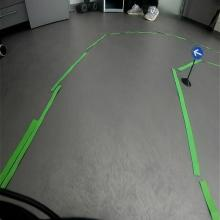left: (191, 44, 204, 61)
